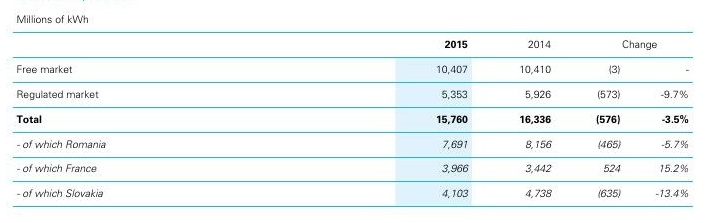table: (0, 0, 713, 223)
